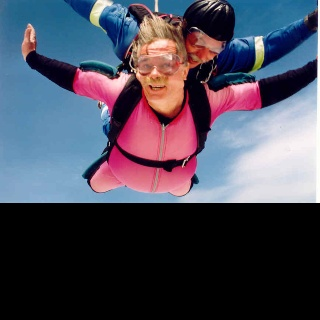without_mask: (136, 37, 184, 102)
